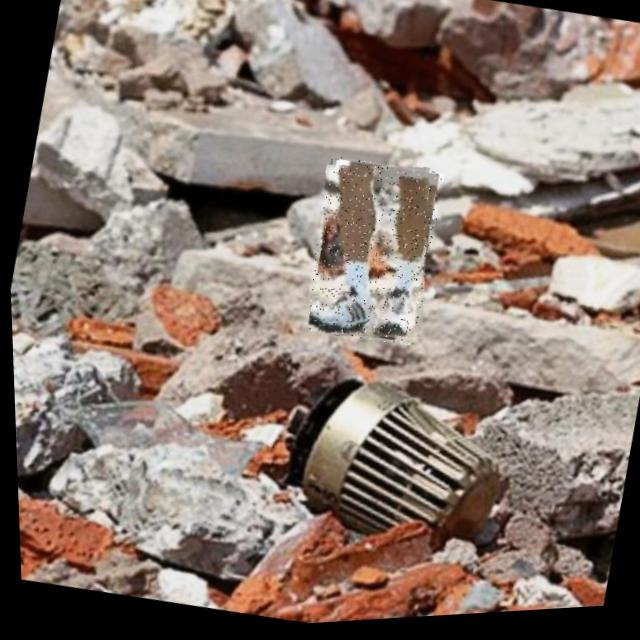Person in Rubble: (294, 155, 448, 357)
